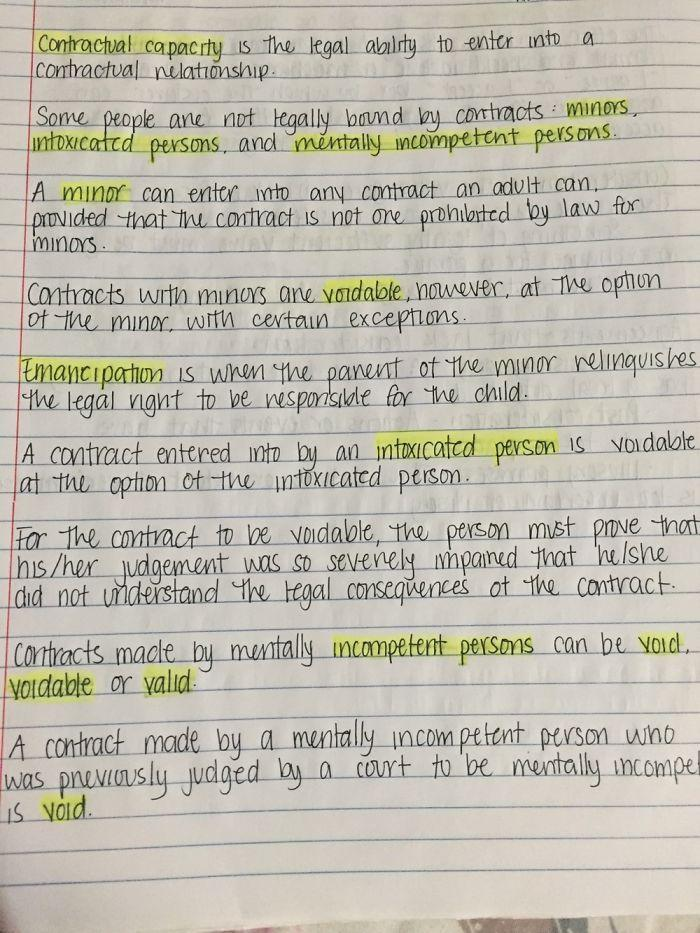text: (4, 747, 700, 806), (6, 716, 679, 766), (14, 539, 673, 590), (20, 344, 699, 393), (17, 427, 700, 474), (11, 627, 686, 673), (13, 571, 674, 616), (13, 511, 700, 554), (24, 193, 641, 239), (36, 97, 639, 140), (23, 269, 664, 309), (24, 121, 614, 164), (17, 377, 524, 426), (34, 27, 597, 66), (27, 173, 601, 207), (16, 461, 463, 501), (21, 304, 461, 336), (7, 667, 193, 706), (31, 57, 273, 86), (3, 789, 90, 830), (30, 234, 101, 259)
